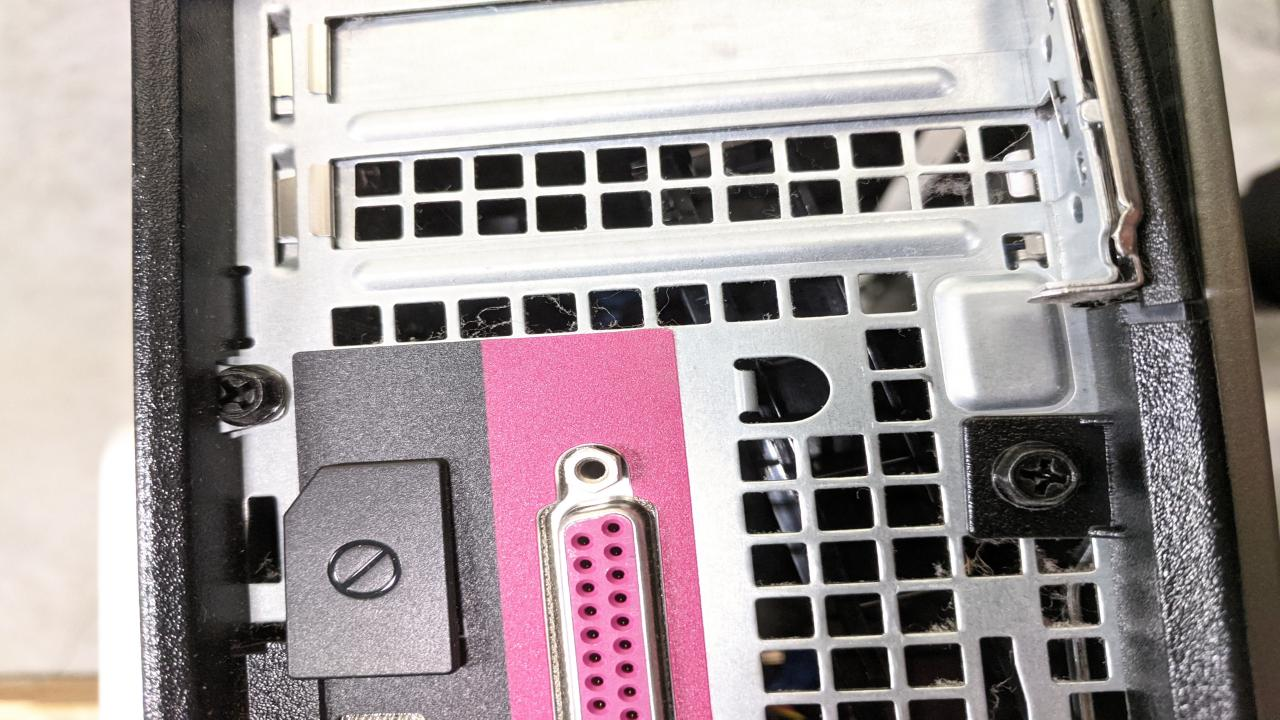CRS: (986, 445, 1091, 511), (211, 368, 275, 424)
